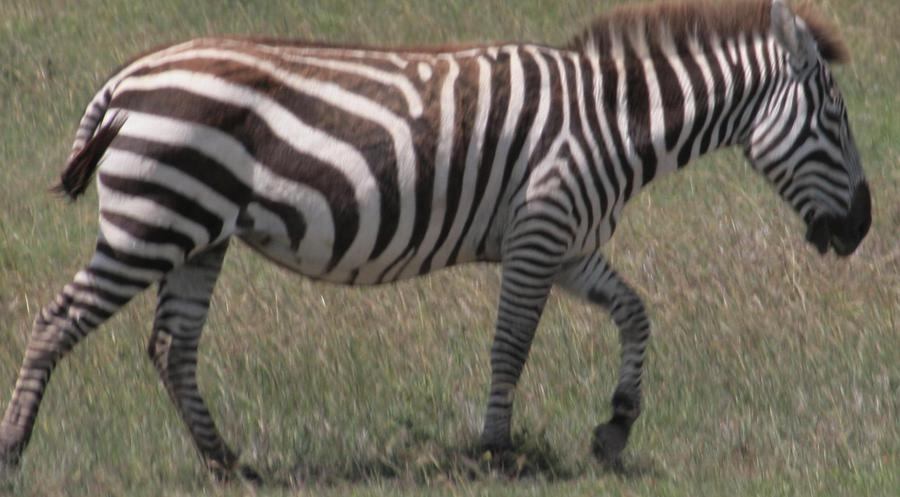zebra_plains: (76, 5, 632, 286)
